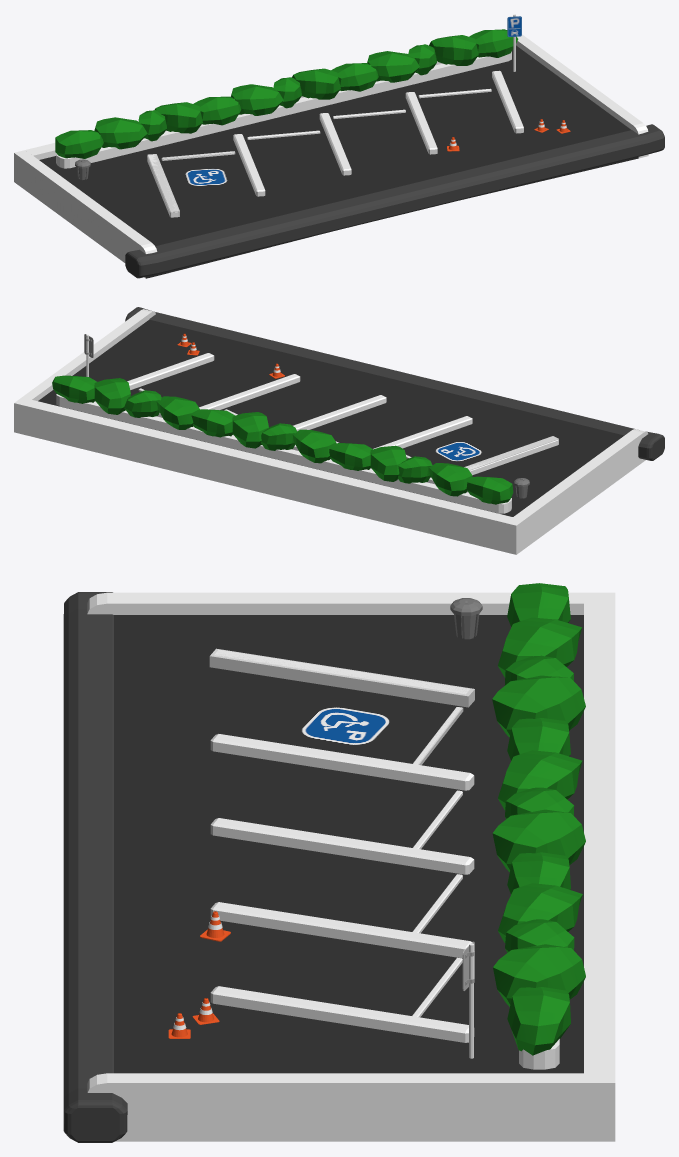
Rendered from baseLevel.glb.
3 views of the same model, one above another, from view 1: azimuth 30°, elevation 25°; view 2: azimuth 150°, elevation 25°; view 3: azimuth 270°, elevation 25° (orthographic). The views are drawn at different scales.
Parts seen in each view (by area): view 1: Plane.001, Cube.002, Cube.009, Cube.003, Cube, Cube.001, Cube.004, Cube.007; view 2: Plane.001, Cube.009, Cube.002, Cube.003, Cube, Cube.004; view 3: Plane.001, Cube.009, Cube.002, Cube, Cube.004, Cube.001, Plane.002, Cube.006, Cube.007.
Part boxes in pixels (x1,y1,x2,y2): Plane.001: (14, 34, 648, 278); Cube.002: (125, 124, 664, 278); Cube.009: (55, 29, 518, 158); Cube.003: (56, 51, 511, 168); Cube: (147, 70, 523, 217); Cube.001: (161, 88, 491, 160); Cube.004: (147, 154, 179, 217); Cube.007: (507, 14, 521, 71); Plane.001: (14, 309, 648, 554); Cube.009: (52, 375, 513, 504); Cube.002: (125, 307, 664, 460); Cube.003: (56, 394, 511, 513); Cube: (127, 353, 558, 475); Cube.004: (464, 436, 558, 470); Plane.001: (87, 592, 615, 1141); Cube.009: (492, 583, 585, 1055); Cube.002: (63, 592, 127, 1142); Cube: (210, 649, 474, 1042); Cube.004: (209, 648, 474, 707); Cube.001: (412, 707, 462, 1017); Plane.002: (168, 911, 230, 1038); Cube.006: (450, 598, 482, 639); Cube.007: (462, 941, 474, 1058).
Size of the model in its own units: 12.44 by 1.81 by 5.64.
13 materials, 2 textured.
